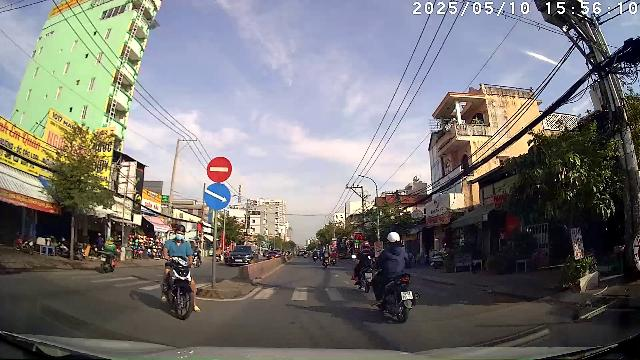102-cam-di-nguoc-chieu: (207, 156, 233, 183)
302a-huong-phai-di-vong-chuong-ngai-vat-1: (204, 183, 231, 210)
